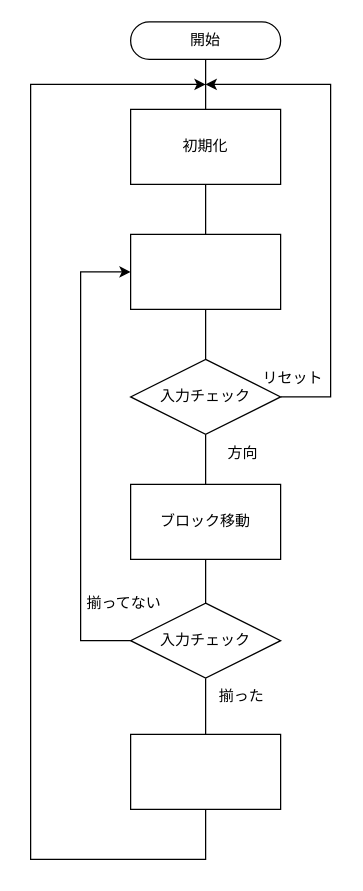
Image size: 363x891. Some labels were removed from this diagram. Here are the shapes that lost their labels. From the top down, the centre of each, then its label:
At point (205, 271): "ボタン入力待機".
At point (205, 771): "クリア表示".
